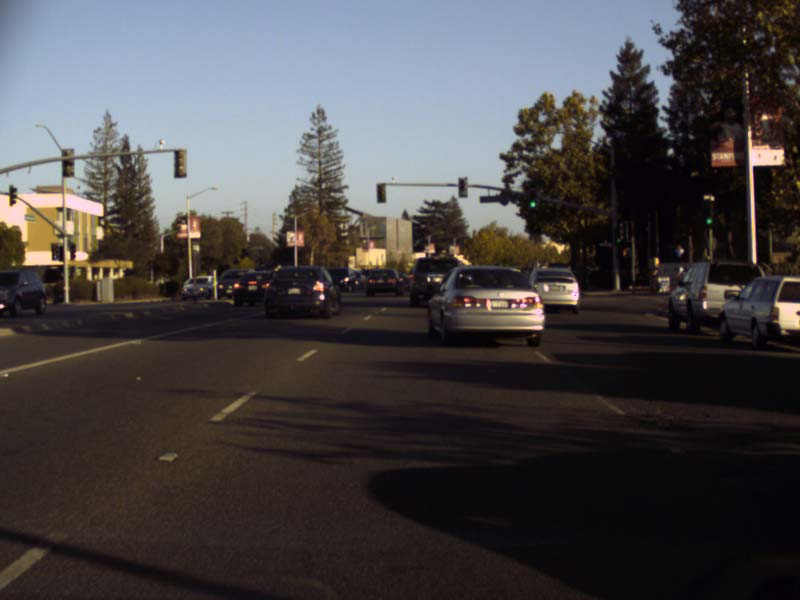Green: (703, 203, 714, 226), (458, 177, 467, 198), (528, 189, 537, 208), (614, 227, 620, 245)
